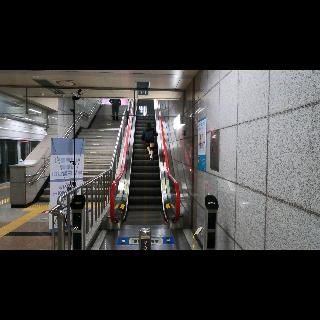normal: (138, 122, 160, 158), (110, 96, 122, 124)
